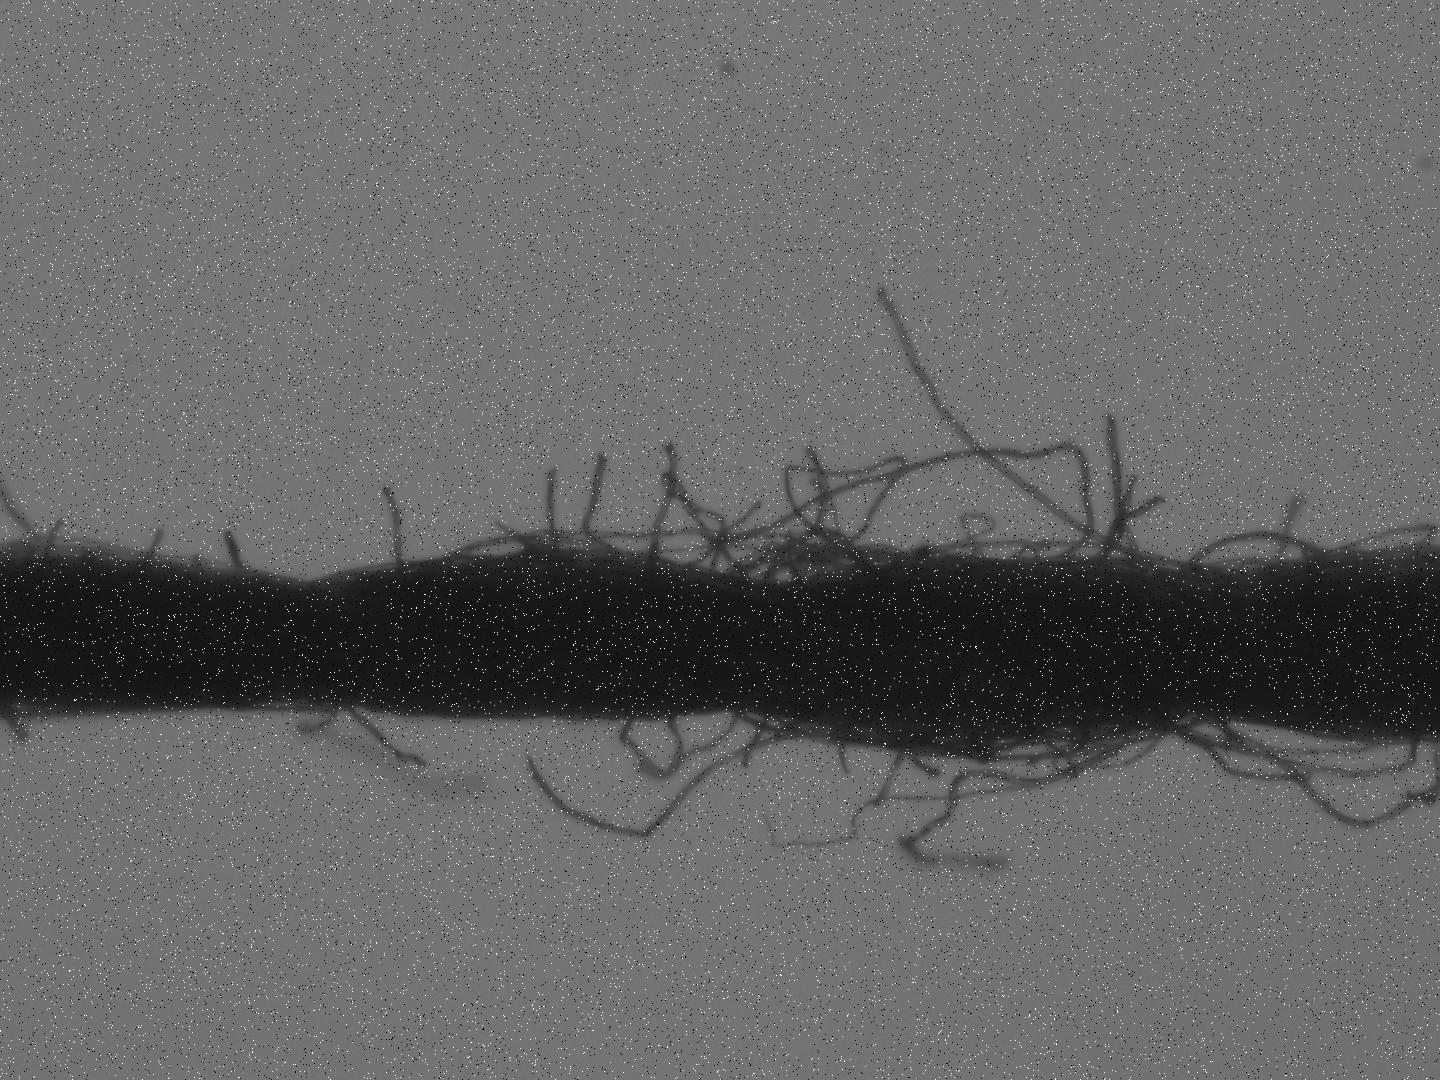loop_fiber: (688, 445, 1091, 584), (444, 532, 787, 589), (771, 716, 1143, 761), (1175, 720, 1418, 781), (726, 543, 897, 591), (912, 537, 1157, 566), (760, 525, 866, 591), (1041, 718, 1157, 773), (1227, 722, 1366, 760), (1181, 534, 1319, 571), (1315, 530, 1423, 563), (621, 714, 678, 775), (731, 708, 805, 735), (786, 554, 848, 585)
protruding_fiber: (871, 281, 1136, 562), (903, 733, 1138, 869), (523, 735, 787, 836), (579, 453, 629, 557), (345, 710, 426, 769), (1101, 412, 1133, 563), (386, 488, 405, 571), (543, 465, 557, 554), (223, 532, 243, 567)
